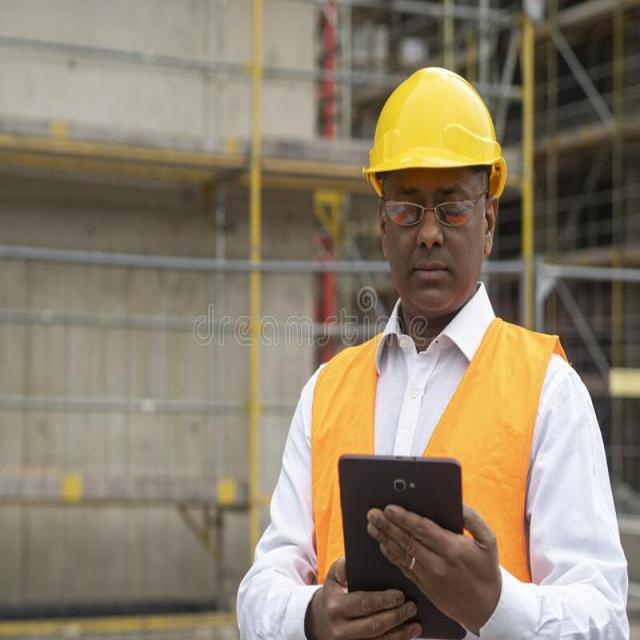reflective_jacket: (297, 310, 568, 636)
safety_helmet: (360, 60, 507, 185)
